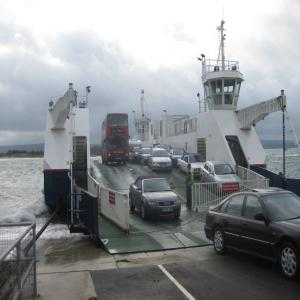Vehicle-registration-plate: (162, 208, 174, 213)
